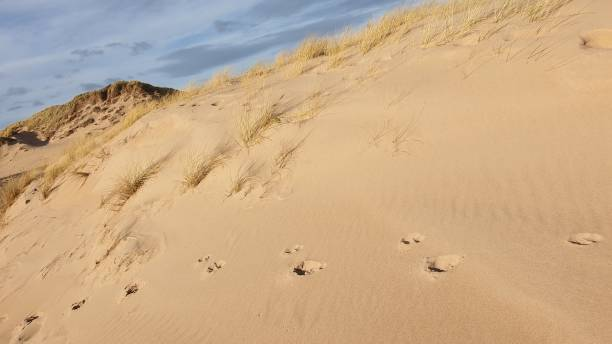animal_footprint: (10, 314, 41, 343), (425, 254, 463, 272), (293, 260, 326, 275), (568, 232, 603, 244), (401, 232, 425, 244), (283, 244, 303, 253), (71, 299, 86, 311)
